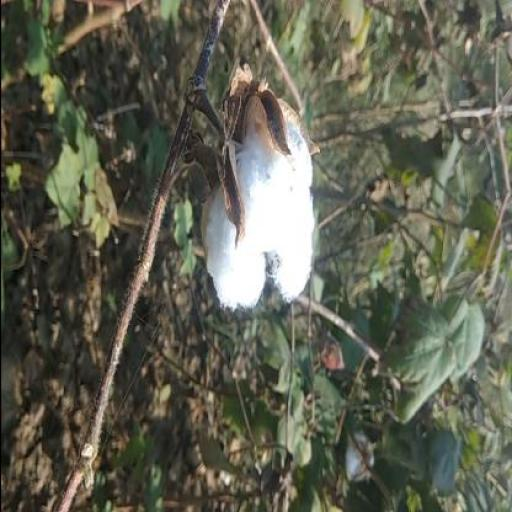cotton_ready: (153, 50, 325, 332)
